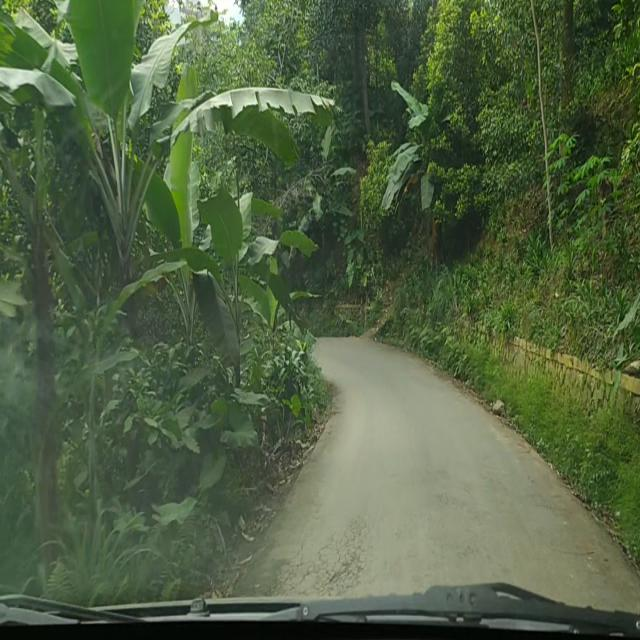Drain Hole: (256, 512, 374, 596)
